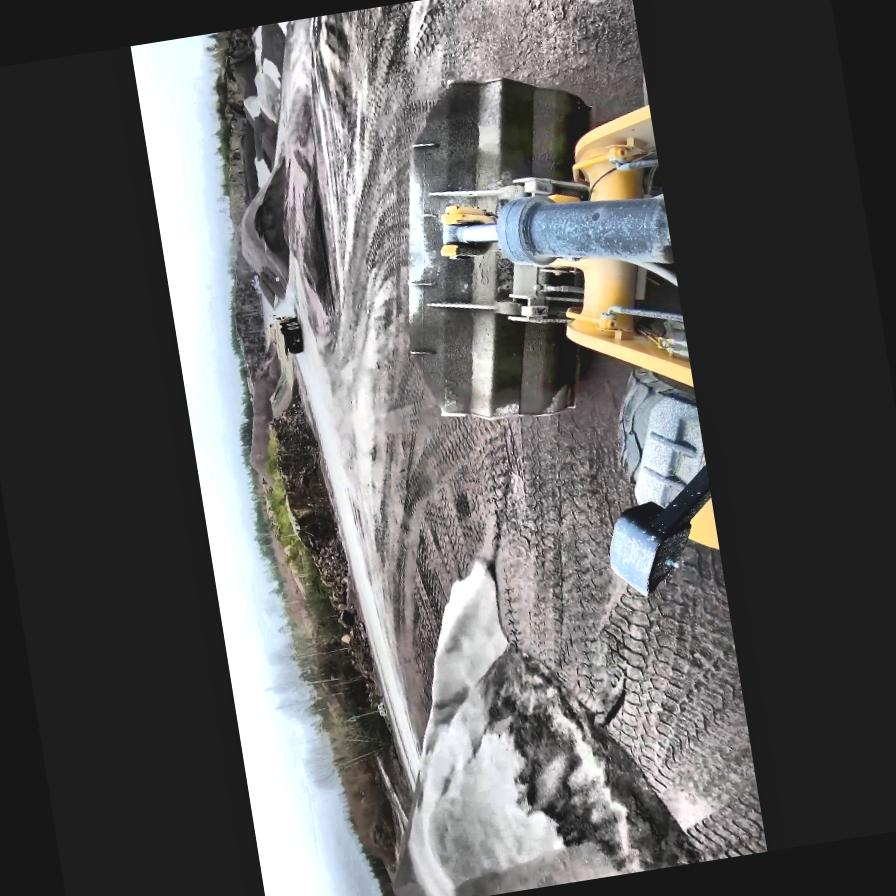anchor: (433, 196, 503, 262)
pile of gravel: (341, 531, 702, 896), (226, 154, 301, 304), (379, 817, 437, 896), (229, 105, 266, 204), (244, 44, 286, 130), (225, 48, 262, 114), (250, 261, 286, 315)
